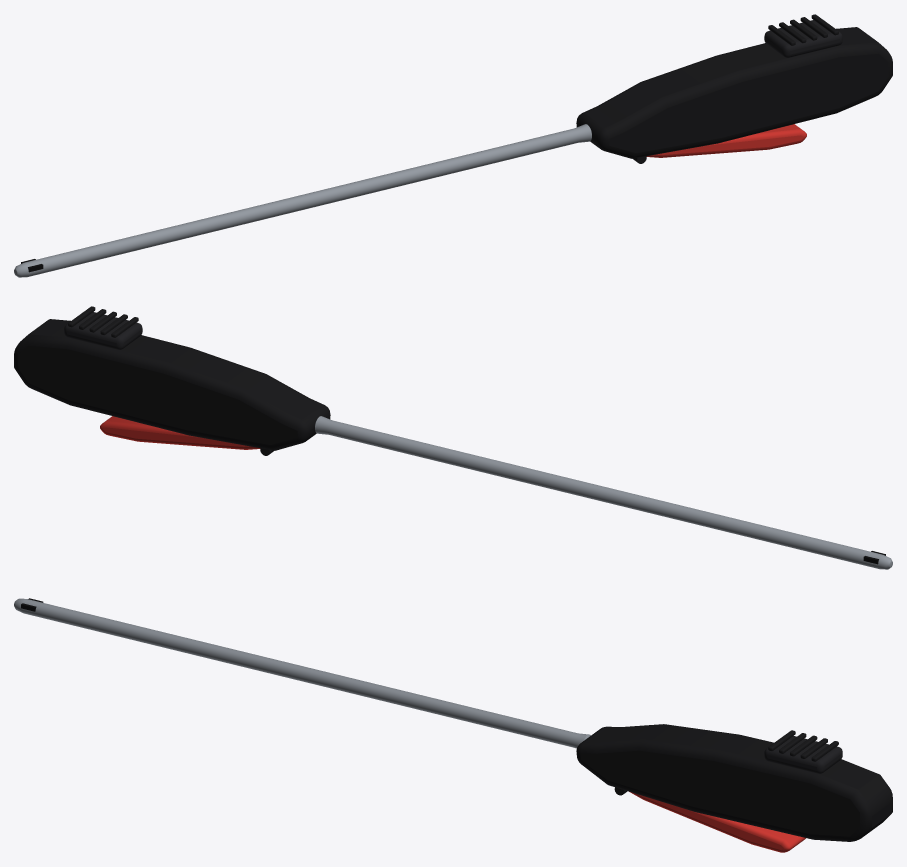
Rendered from trimmer.glb.
3 renders of one model, top to bottom at view 1: azimuth 30°, elevation 25°; view 2: azimuth 150°, elevation 25°; view 3: azimuth 330°, elevation 25°, orthographic.
Visible parts, largest first — view 1: Body, Shaft, LeverBlade, KnobPad; view 2: Body, Shaft, LeverBlade, KnobPad; view 3: Body, Shaft, LeverBlade, KnobPad.
Boxes of the visible parts, x1,y1,x2,y2 form: Body: [576, 27, 892, 158]; Shaft: [14, 124, 591, 277]; LeverBlade: [646, 124, 806, 157]; KnobPad: [764, 20, 842, 57]; Body: [14, 319, 330, 450]; Shaft: [315, 416, 892, 569]; LeverBlade: [100, 416, 260, 449]; KnobPad: [64, 312, 142, 349]; Body: [576, 724, 892, 841]; Shaft: [14, 598, 590, 748]; LeverBlade: [629, 791, 805, 852]; KnobPad: [764, 736, 842, 773].
Bounding box in the file's own units: 160 × 18.77 × 9.2.
